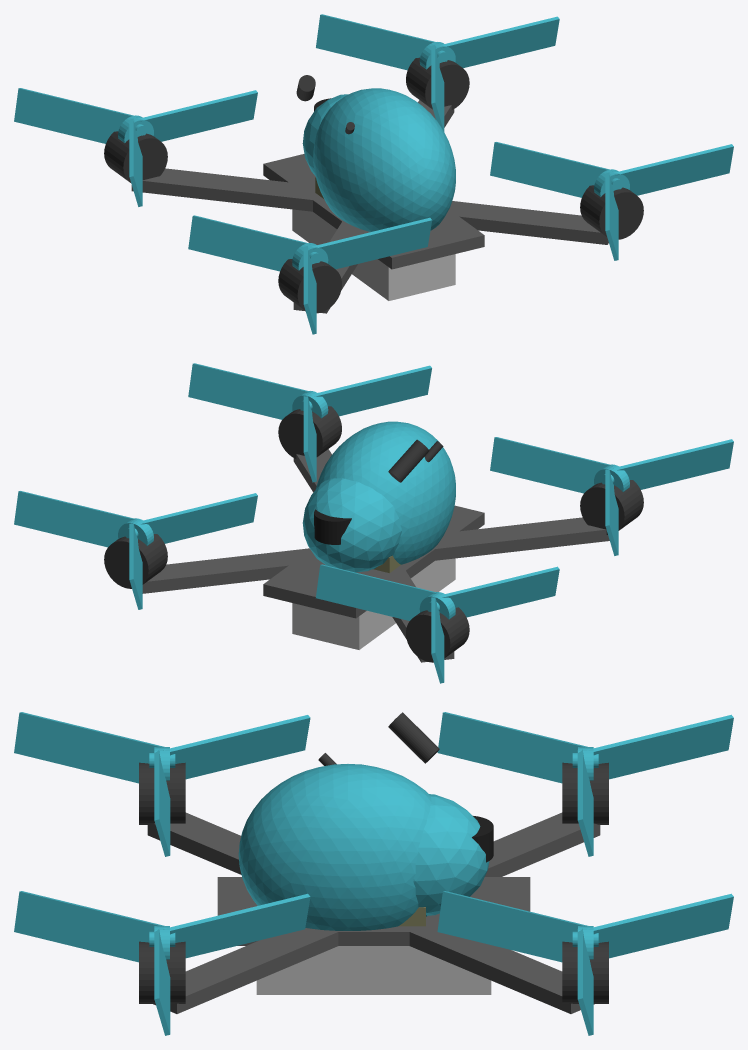
The picture shows the model from 3 angles, top to bottom: view 1: azimuth 30°, elevation 25°; view 2: azimuth 150°, elevation 25°; view 3: azimuth 270°, elevation 25°; orthographic projection. The views are drawn at different scales.
Visible parts, largest first — view 1: canopy, prop_0, prop_2, prop_3, prop_1, arm_3.9269908169872414, battery, frame_center, arm_0.7853981633974483, motor_3, motor_0, motor_1 (+2 smaller); view 2: canopy, prop_3, prop_1, prop_2, prop_0, arm_5.497787143782138, arm_2.356194490192345, battery, frame_center, motor_2, motor_1, motor_0 (+5 smaller); view 3: canopy, prop_1, prop_2, prop_3, prop_0, battery, arm_2.356194490192345, arm_0.7853981633974483, frame_center, arm_3.9269908169872414, arm_5.497787143782138, motor_0 (+5 smaller).
Boxes of the visible parts, box(x1,y1,x2,y2) form: canopy: box(302, 88, 455, 231); prop_0: box(490, 142, 733, 260); prop_2: box(14, 88, 257, 206); prop_3: box(188, 215, 432, 334); prop_1: box(316, 14, 559, 131); arm_3.9269908169872414: box(131, 168, 325, 211); battery: box(292, 209, 455, 300); frame_center: box(263, 154, 484, 269); arm_0.7853981633974483: box(449, 201, 608, 244); motor_3: box(278, 259, 341, 313); motor_0: box(580, 185, 643, 239); motor_1: box(406, 57, 469, 109); canopy: box(302, 421, 455, 572); prop_3: box(490, 437, 733, 555); prop_1: box(14, 491, 257, 609); prop_2: box(316, 564, 559, 683); prop_0: box(188, 363, 431, 482); arm_5.497787143782138: box(433, 517, 609, 560); arm_2.356194490192345: box(142, 548, 320, 593); battery: box(292, 558, 455, 649); frame_center: box(263, 505, 484, 618); motor_2: box(406, 607, 469, 662); motor_1: box(104, 534, 167, 588); motor_0: box(278, 406, 341, 458); canopy: box(238, 764, 489, 930); prop_1: box(437, 891, 733, 1035); prop_2: box(437, 712, 733, 856); prop_3: box(14, 712, 310, 856); prop_0: box(14, 891, 310, 1035); battery: box(256, 946, 491, 994); arm_2.356194490192345: box(397, 916, 594, 1013); arm_0.7853981633974483: box(153, 928, 339, 1013); frame_center: box(217, 877, 530, 945); arm_3.9269908169872414: box(485, 812, 600, 876); arm_5.497787143782138: box(147, 812, 241, 874); motor_0: box(139, 941, 185, 1003).
Bounding box in the file's own units: 0.1306 × 0.0484 × 0.1383.
